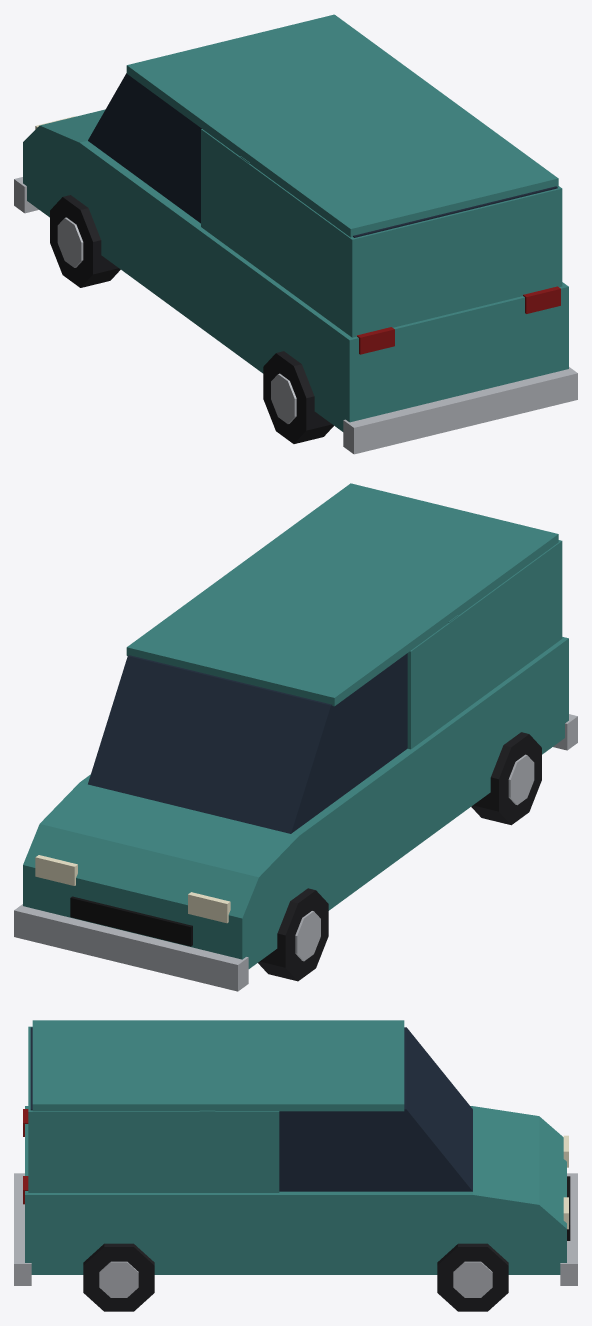
Rendered from CarVanTeal.obj.
3 views of the same model, one above another, from view 1: azimuth 30°, elevation 25°; view 2: azimuth 150°, elevation 25°; view 3: azimuth 270°, elevation 25° (orthographic). The views are drawn at different scales.
Parts seen in each view (by area): view 1: CarVanTeal; view 2: CarVanTeal; view 3: CarVanTeal.
Boxes of the visible parts, x1,y1,x2,y2 form: CarVanTeal: (14, 14, 577, 454); CarVanTeal: (14, 483, 577, 991); CarVanTeal: (14, 1020, 577, 1311).
Size of the model in its own units: 2.07 by 2.01 by 5.1.
Materials: 1 (1 with a texture image).
